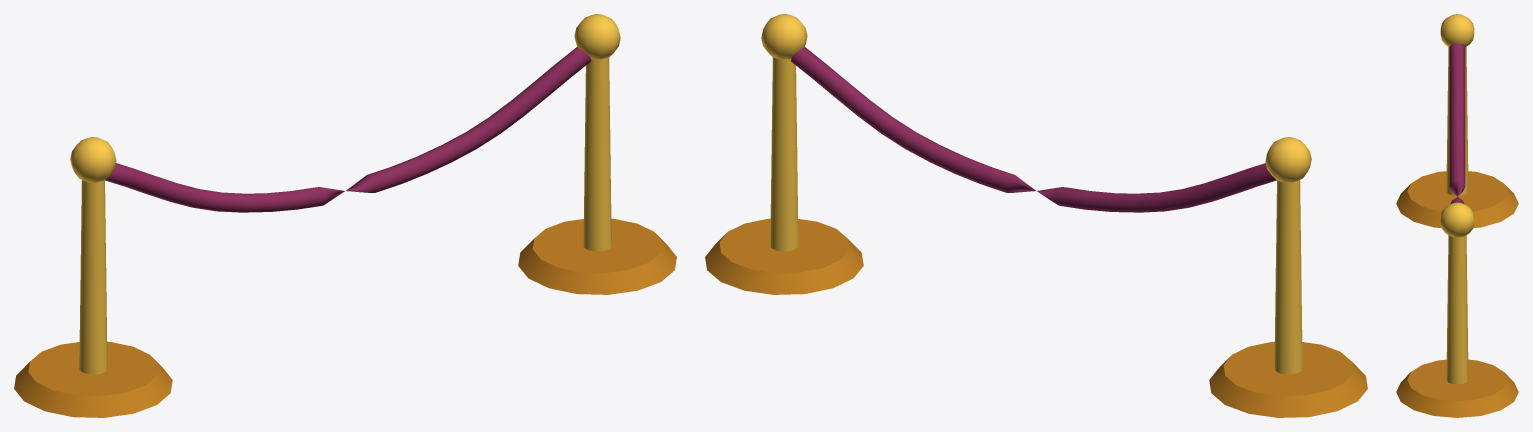
Rendered from VIPRope.glb.
3 views of the same model, side by side, from view 1: azimuth 30°, elevation 25°; view 2: azimuth 150°, elevation 25°; view 3: azimuth 270°, elevation 25° (orthographic). The views are drawn at different scales.
Parts seen in each view (by area): view 1: Body, Swing; view 2: Body, Swing; view 3: Body, Swing.
Part boxes in pixels (x1,y1,x2,y2): Body: (14, 14, 676, 417); Swing: (105, 46, 590, 212); Body: (705, 14, 1367, 417); Swing: (791, 46, 1276, 212); Body: (1396, 14, 1518, 417); Swing: (1449, 43, 1465, 204).
Bounding box in the file's own units: 5.1 × 1.86 × 1.1.
Materials: 2 (2 with a texture image).
